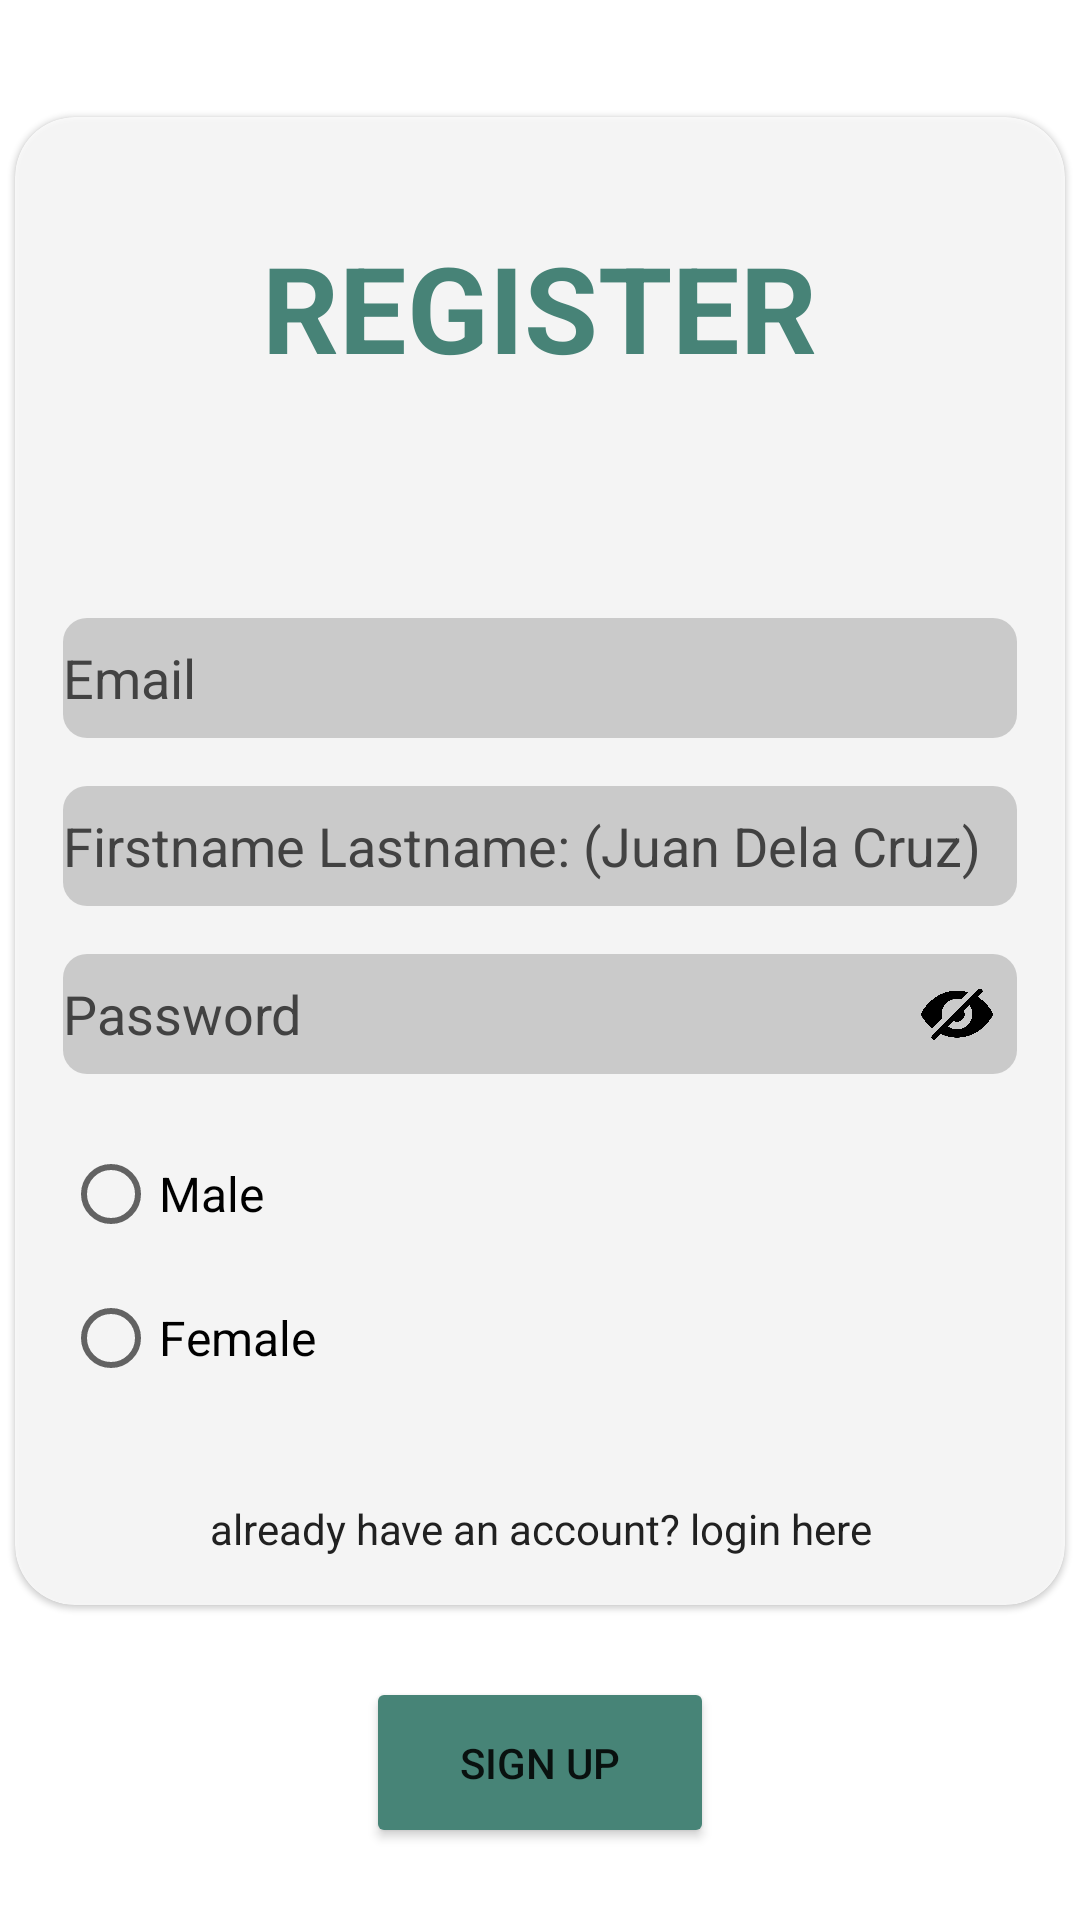

Where to tap for icons on this 1080×1920 app screen, as point (x, y):
eyeclose: point (957, 1014)
